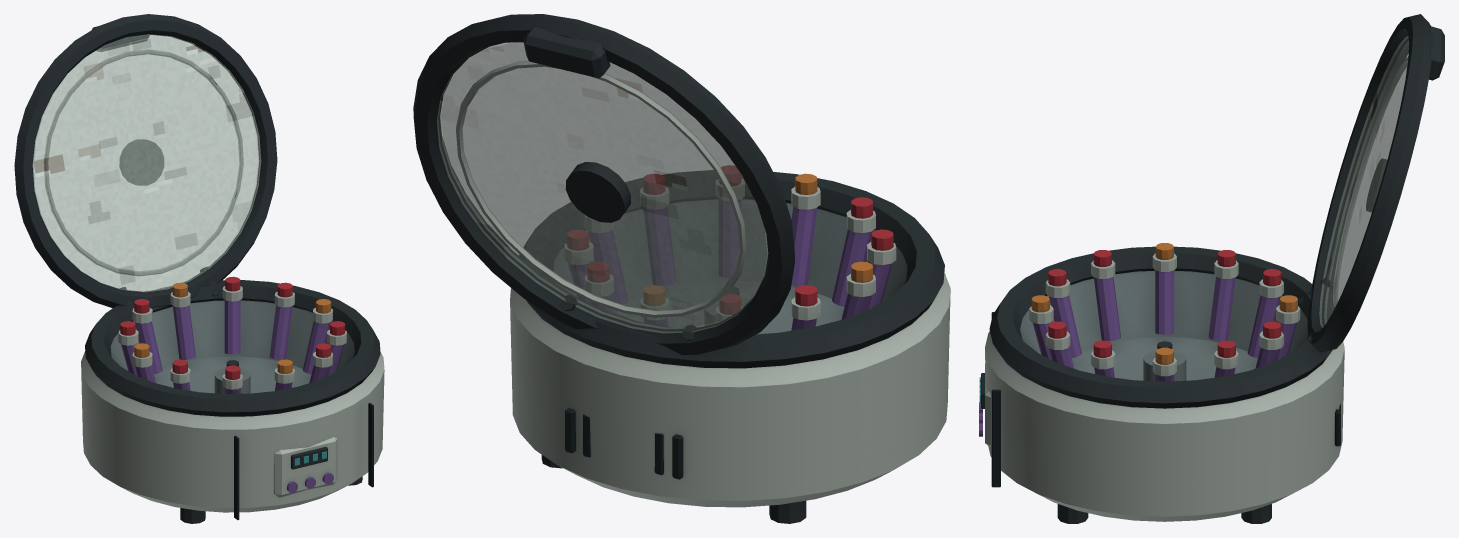
The model's file is centrifuge.glb.
3 views of the same model, side by side, from view 1: azimuth 30°, elevation 25°; view 2: azimuth 150°, elevation 25°; view 3: azimuth 270°, elevation 25° (orthographic). The views are drawn at different scales.
Parts seen in each view (by area): view 1: centrifuge_static_0, centrifuge_static_1; view 2: centrifuge_static_0, centrifuge_static_1; view 3: centrifuge_static_0, centrifuge_static_1.
Part boxes in pixels (left/top/right/bottom): centrifuge_static_0: left=14, top=14, right=384, bottom=523; centrifuge_static_1: left=32, top=34, right=261, bottom=292; centrifuge_static_0: left=413, top=14, right=950, bottom=523; centrifuge_static_1: left=436, top=42, right=768, bottom=333; centrifuge_static_0: left=979, top=14, right=1444, bottom=523; centrifuge_static_1: left=1319, top=36, right=1409, bottom=327.
Size of the model in its own units: 0.47 by 0.6362 by 0.6082.
2 materials, 2 textured.
